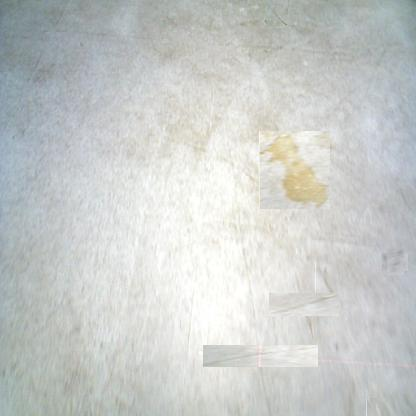liquid: (257, 133, 332, 208), (281, 281, 327, 328), (366, 398, 381, 416)
mark: (226, 322, 295, 390), (315, 262, 338, 306), (264, 0, 289, 24), (384, 251, 406, 273), (322, 266, 327, 277)
